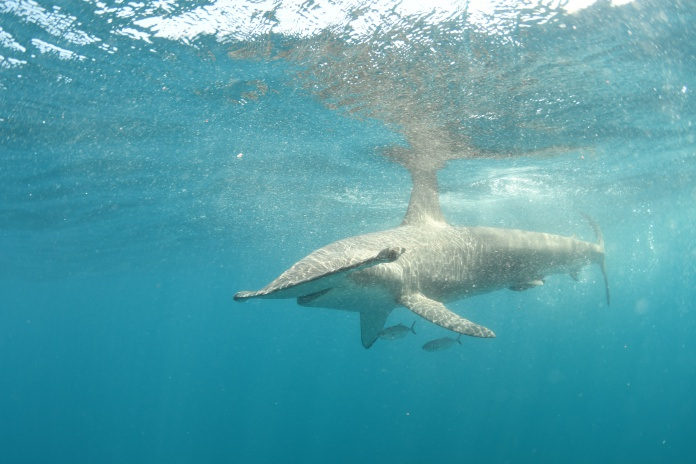Hammer: (210, 161, 643, 384)
